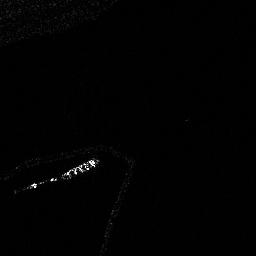ship: (60, 155, 101, 181)
